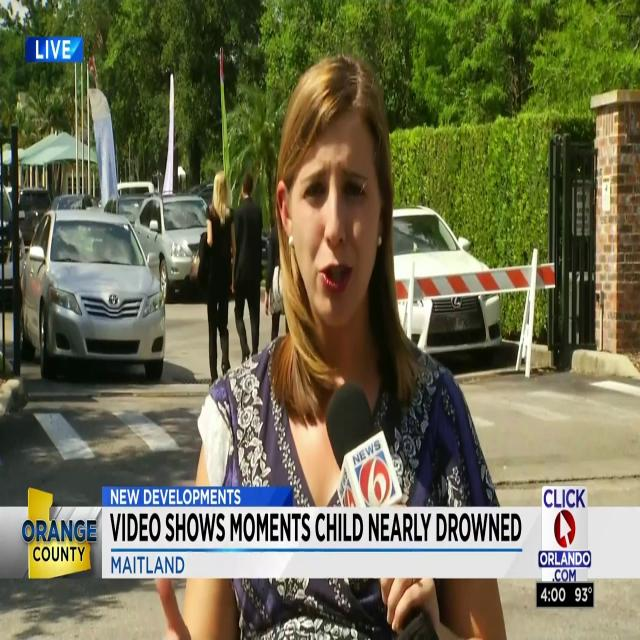adult: (155, 51, 506, 640)
